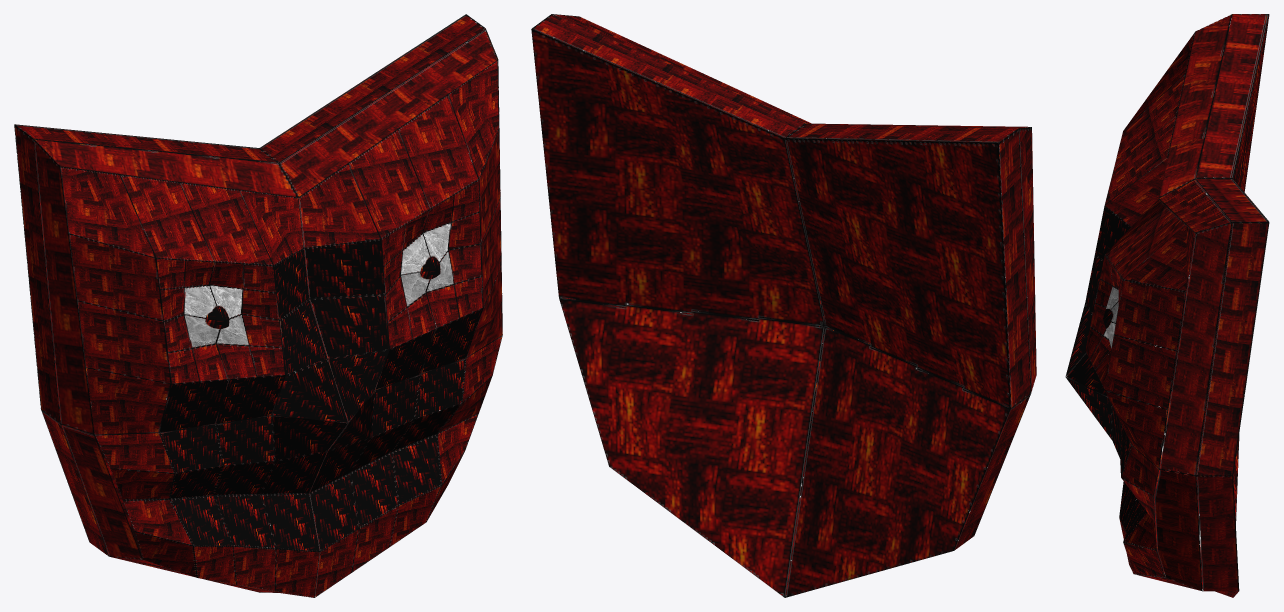
Rendered from simple_mask_2.fbx.
3 renders of one model, left to right at view 1: azimuth 30°, elevation 25°; view 2: azimuth 150°, elevation 25°; view 3: azimuth 270°, elevation 25°, orthographic. The views are drawn at different scales.
Parts seen in each view (by area): view 1: Cube; view 2: Cube; view 3: Cube.
Part boxes in pixels (box(x1,y1,x2,y2)): Cube: box(14, 14, 502, 597); Cube: box(531, 14, 1036, 597); Cube: box(1065, 14, 1269, 597).
Size of the model in its own units: 253 by 272 by 105.
